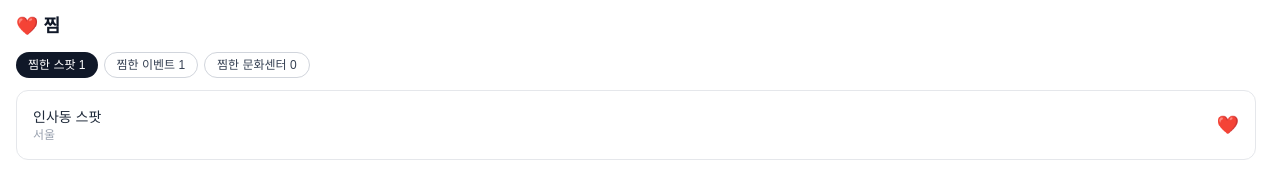
FavoritesView › 탭을 전환하면 spot_id/event_id 기준으로 목록이 갈린다
expect the text "인사동 스팟" is shown: met, box [33,107,101,127]
expect the text "가을 축제" is not shown: met
Click the button "찜한 이벤트 1".
click(151, 65)  # box [104,52,198,78]
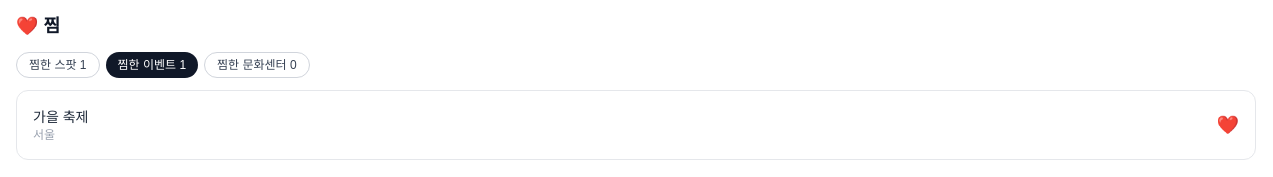
expect the text "가을 축제" is shown: met, box [33,107,88,127]
expect the text "인사동 스팟" is gone: met
